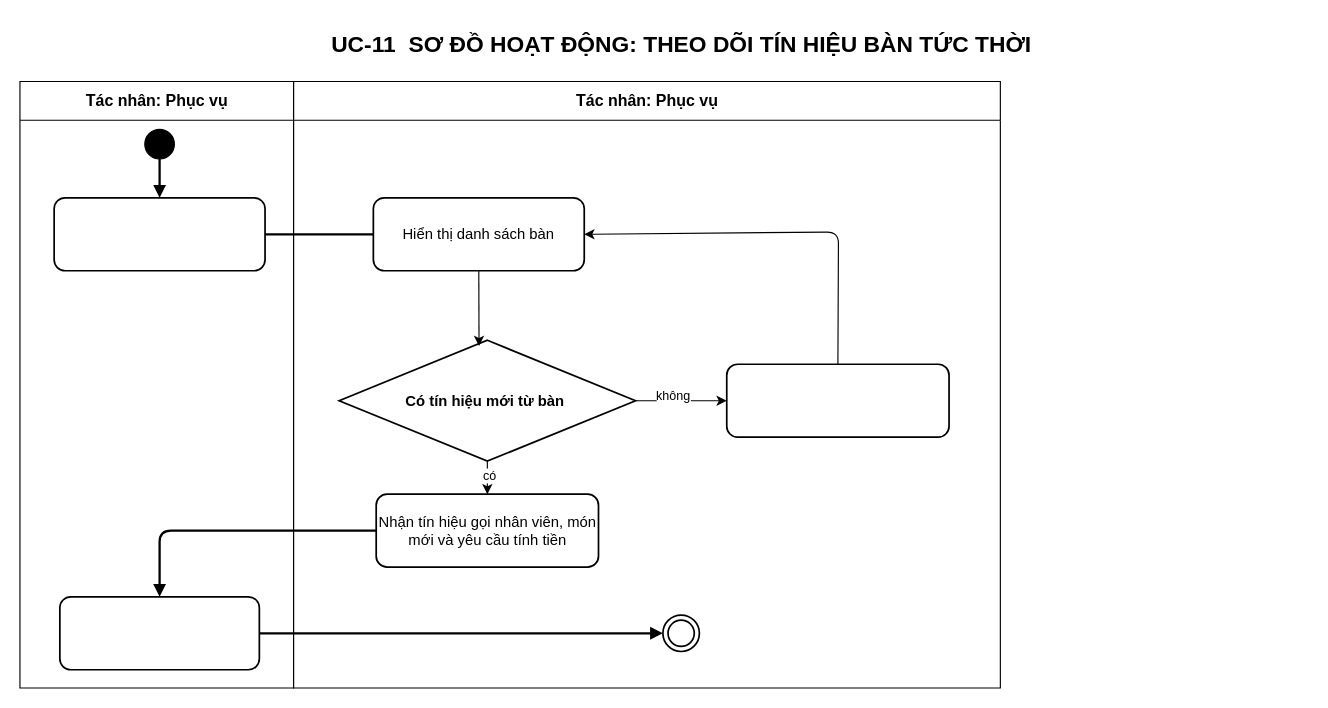
Image size: 1328x708. Some labels were removed from this diagram. Here are the shapes that lost their labels. From the top down, the centre of each, then its label:
At point (159, 233): "Mở màn hình phục vụ".
At point (837, 400): "Thông báo chưa có tín hiệu mới".
At point (159, 632): "Mở đúng bàn cần xử lý".
